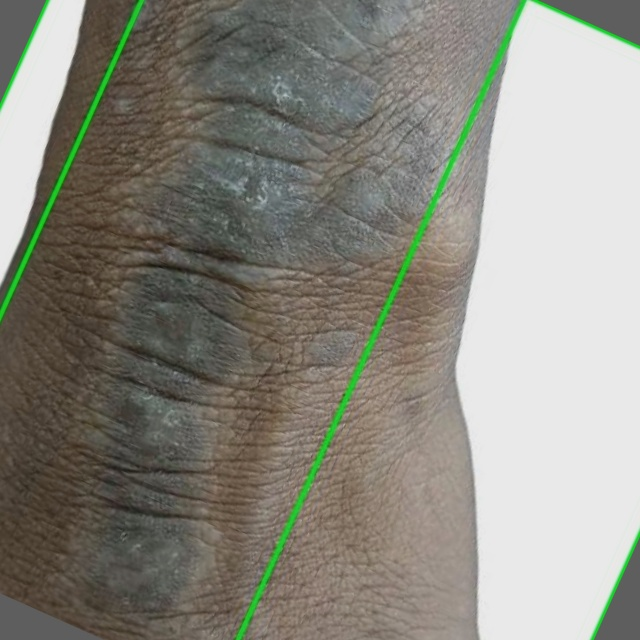Eczema: (237, 0, 639, 639)
